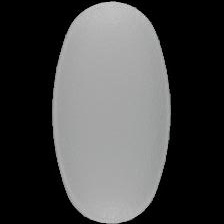0781-1962: (0, 0, 224, 224)
